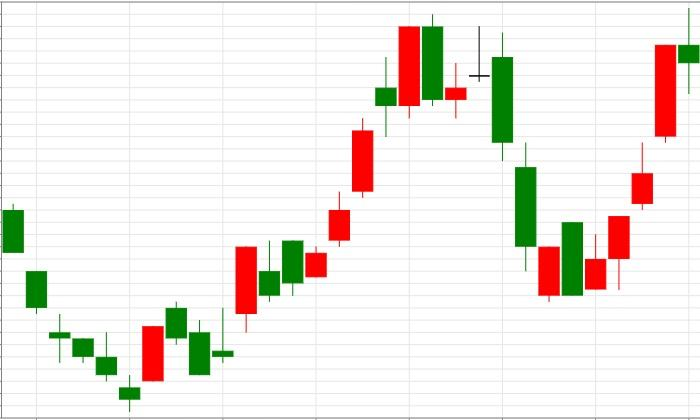morning_star_rise: (2, 203, 164, 412)
